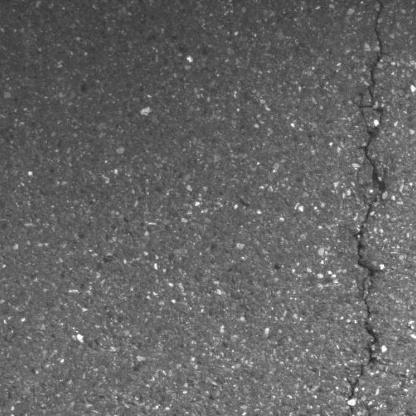Cracks: (343, 0, 391, 416)
